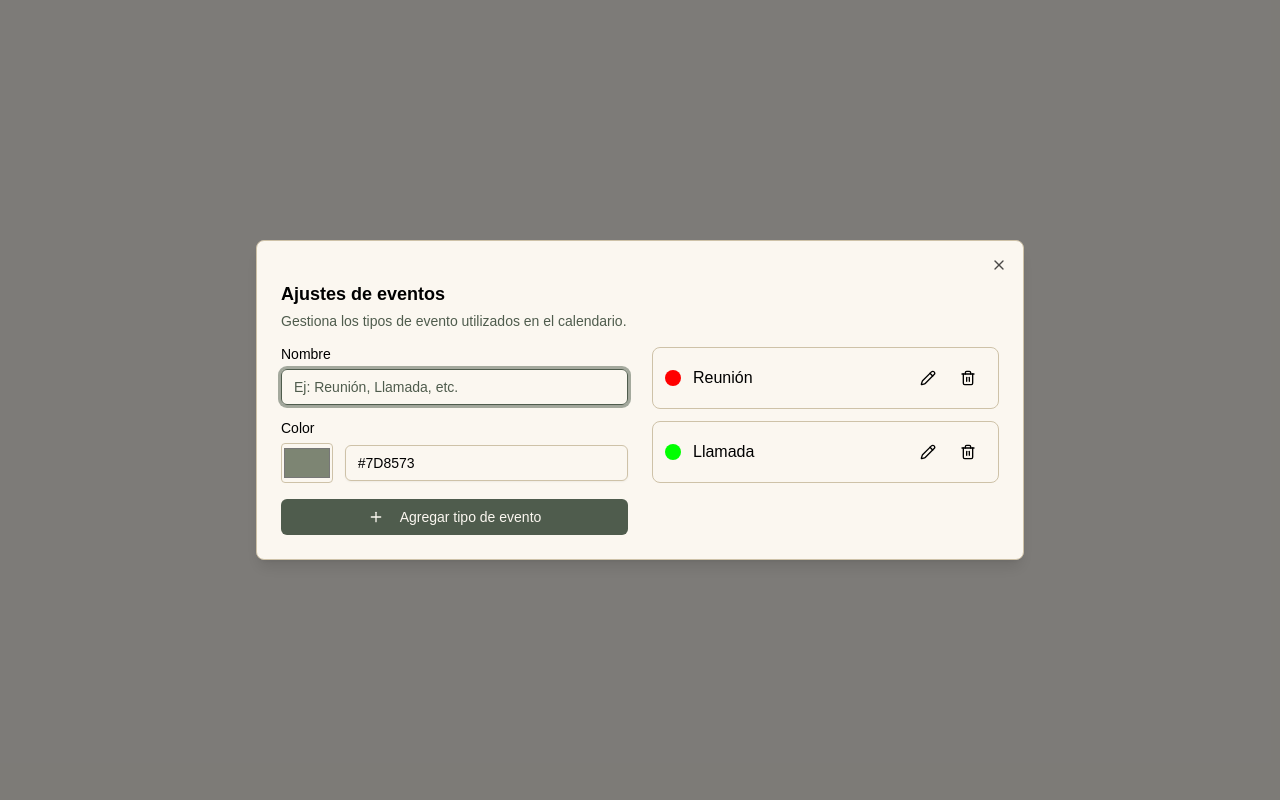
it: EventTypesDialog › show message when opening deletion dialog
This screenshot has width=1280, height=800.
Click the 3rd button.
click(968, 378)  # box [950, 360, 986, 396]
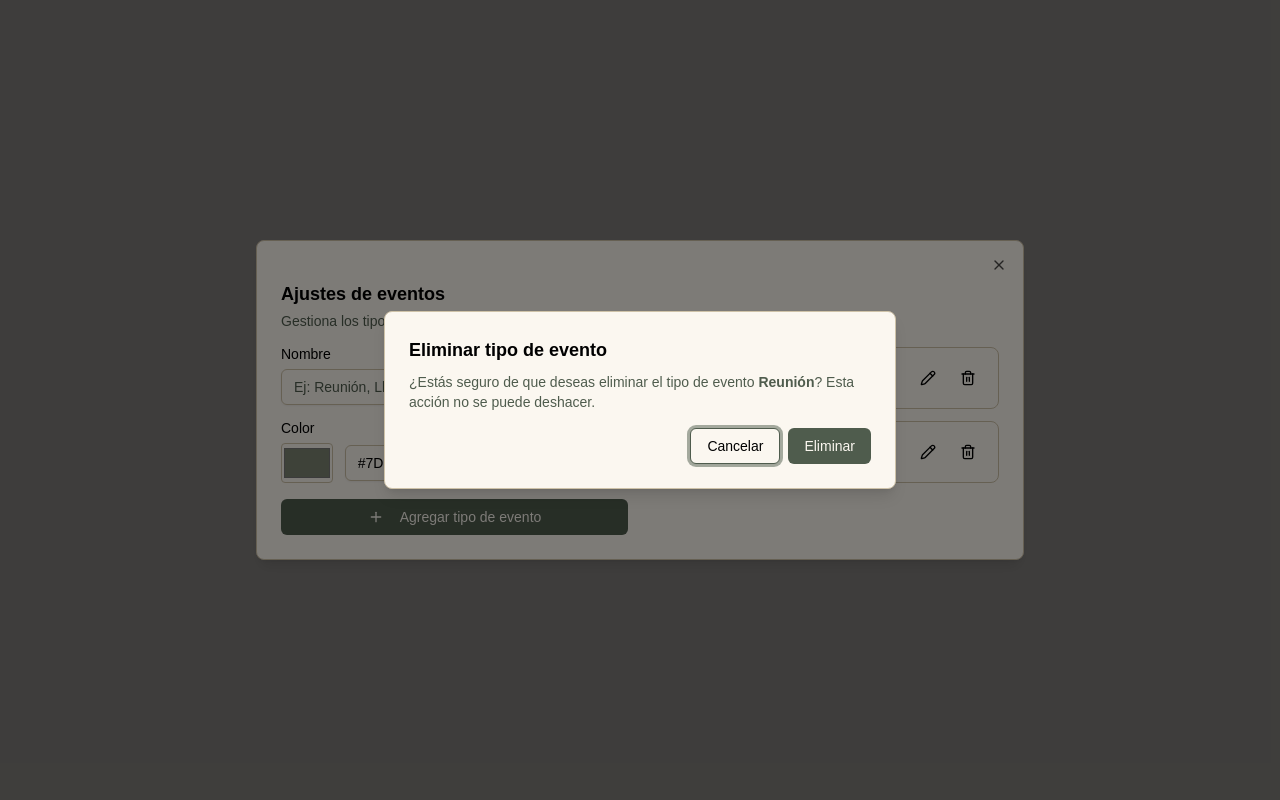
Expected: the heading "Eliminar tipo de evento" is shown, [409, 340, 607, 360]
